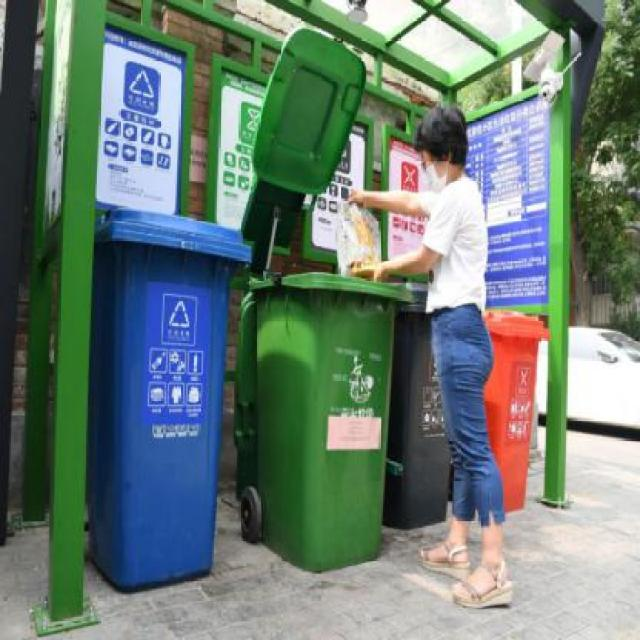garbage container: (89, 204, 253, 591), (236, 269, 410, 574), (480, 308, 554, 526)
